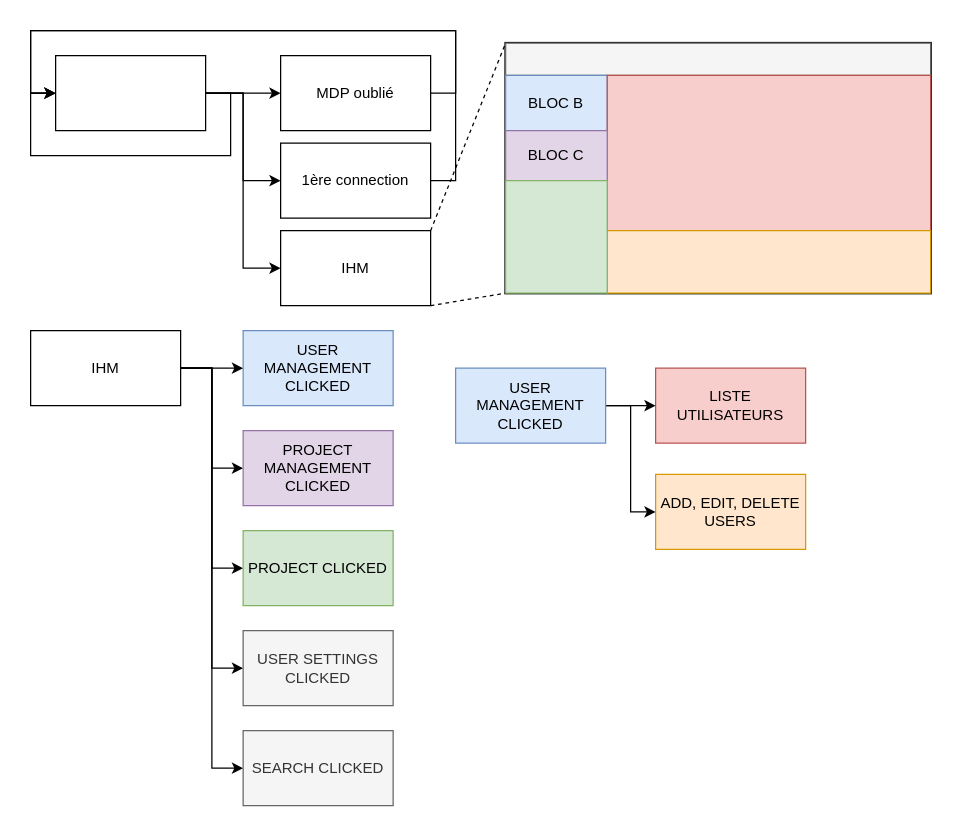
This 954x828 diagram has some shape labels left out. Here are the shapes that lost their labels. From the top down, the box of each, then its label:
(504, 42, 931, 75): BLOC A
(54, 54, 206, 131): LOGIN
(606, 74, 931, 231): BLOC E
(504, 179, 607, 293): BLOC D
(606, 229, 931, 293): BLOC F
